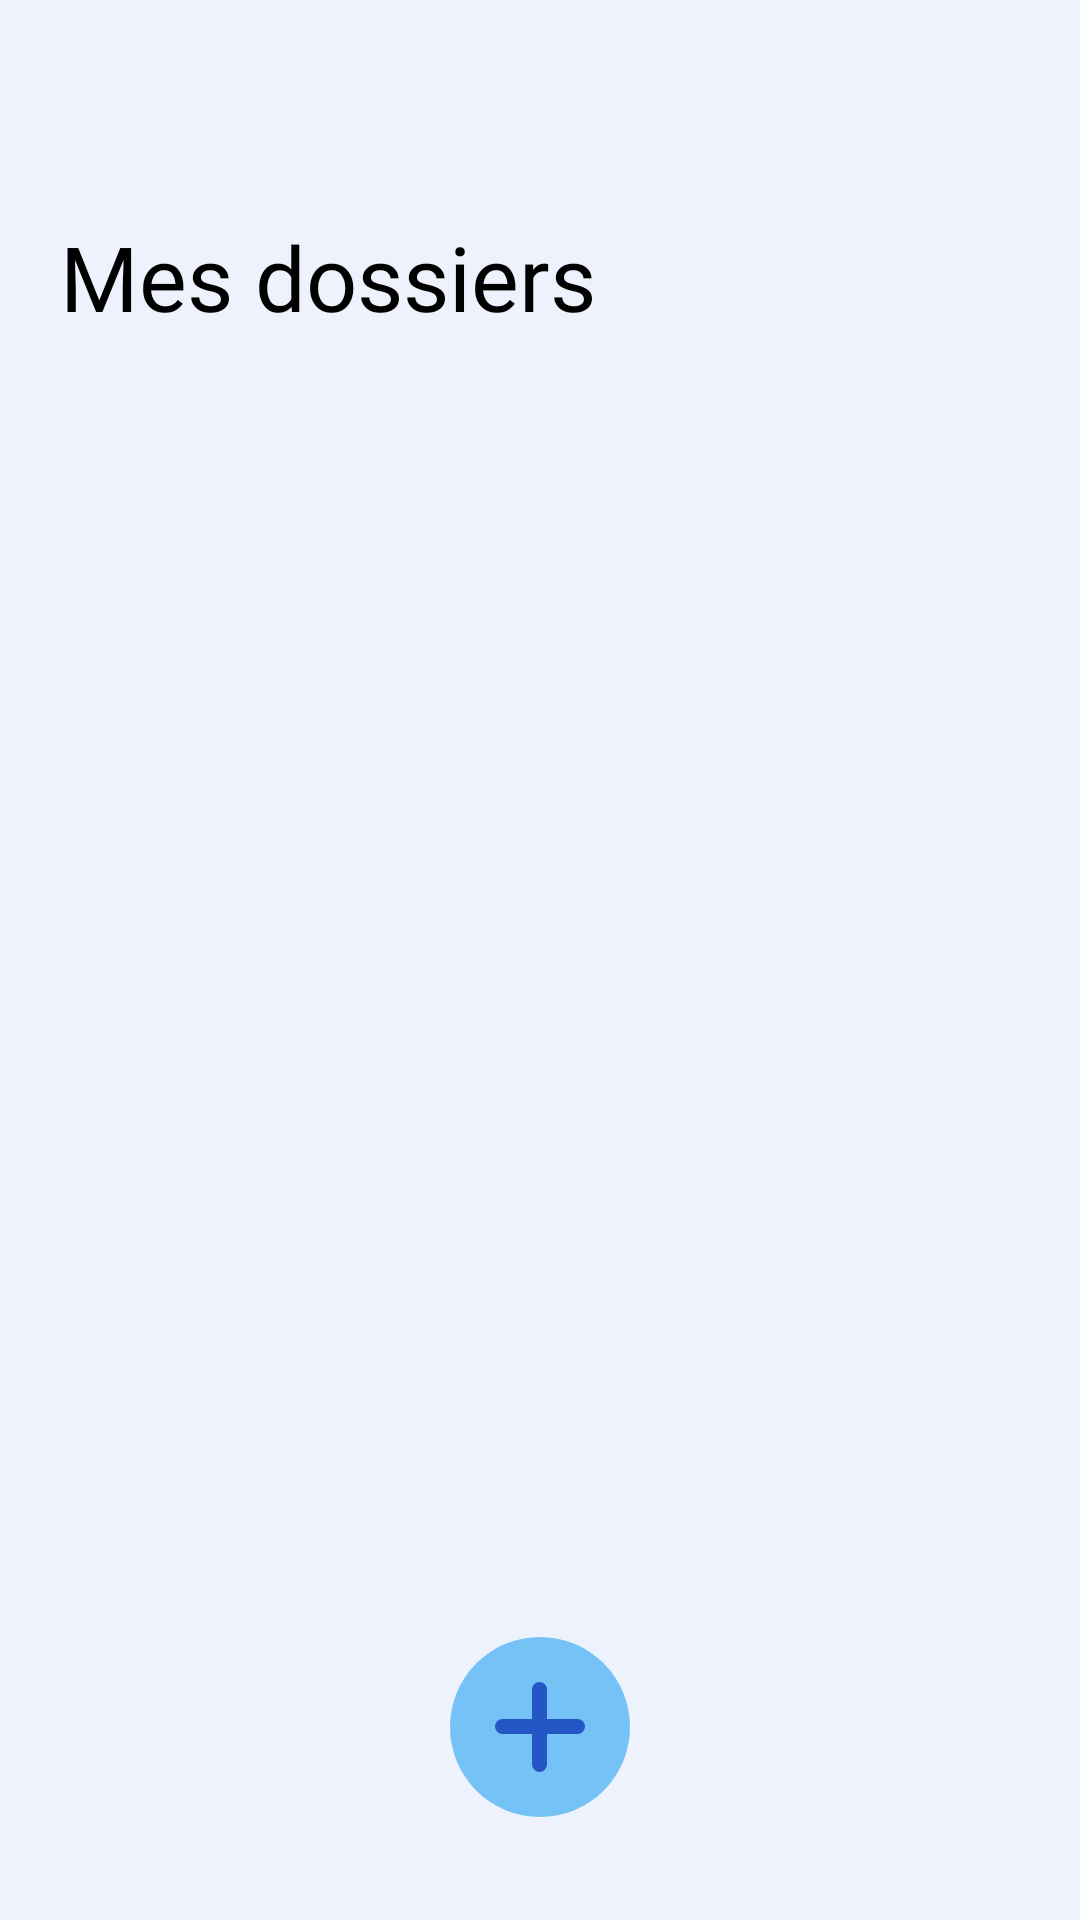

Where to tap for icons on this 1080 × 1920 app screen, as (x=x, y=y):
cercle bleu: (x=540, y=1727)
